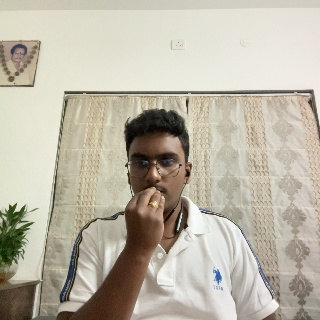Food: (124, 186, 170, 264)
